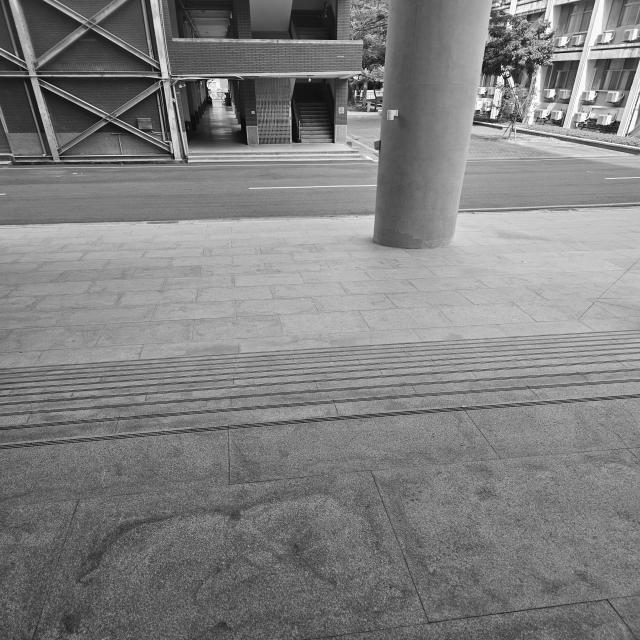Road-Object: (2, 400, 638, 640), (2, 208, 640, 368), (0, 112, 380, 225), (460, 125, 640, 209), (189, 100, 242, 150)
floor: (0, 329, 640, 450), (188, 143, 360, 163), (292, 82, 334, 143), (288, 0, 337, 40)
